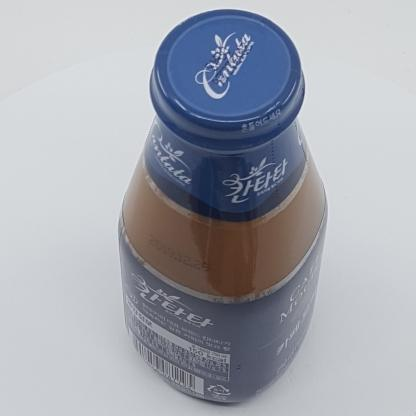------------250ML: (118, 9, 328, 403)
